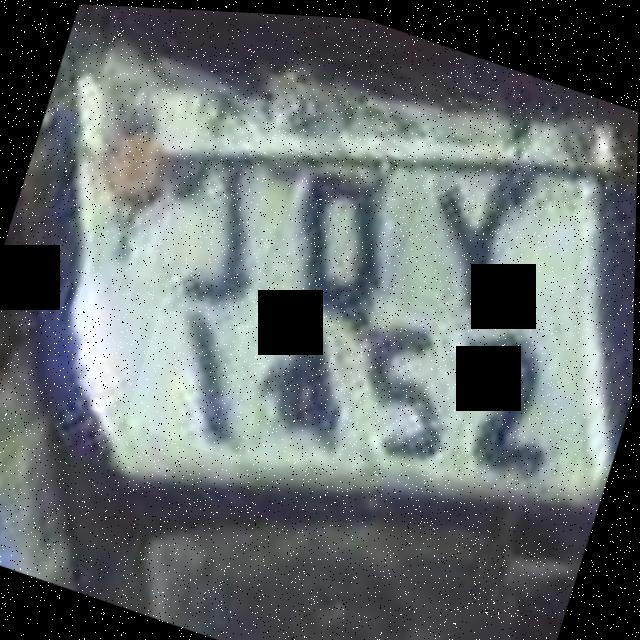1: (126, 260, 291, 461)
2: (411, 283, 598, 488)
4: (220, 282, 396, 476)
5: (333, 293, 488, 473)
D: (255, 127, 428, 335)
Y: (382, 123, 560, 332)
Z: (146, 129, 303, 327)
